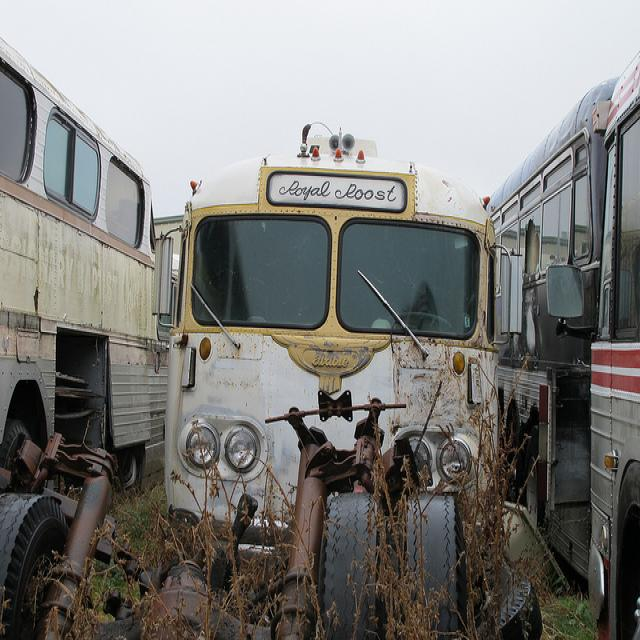Vehicle: (160, 163, 510, 571), (488, 54, 640, 632), (0, 27, 180, 486)
